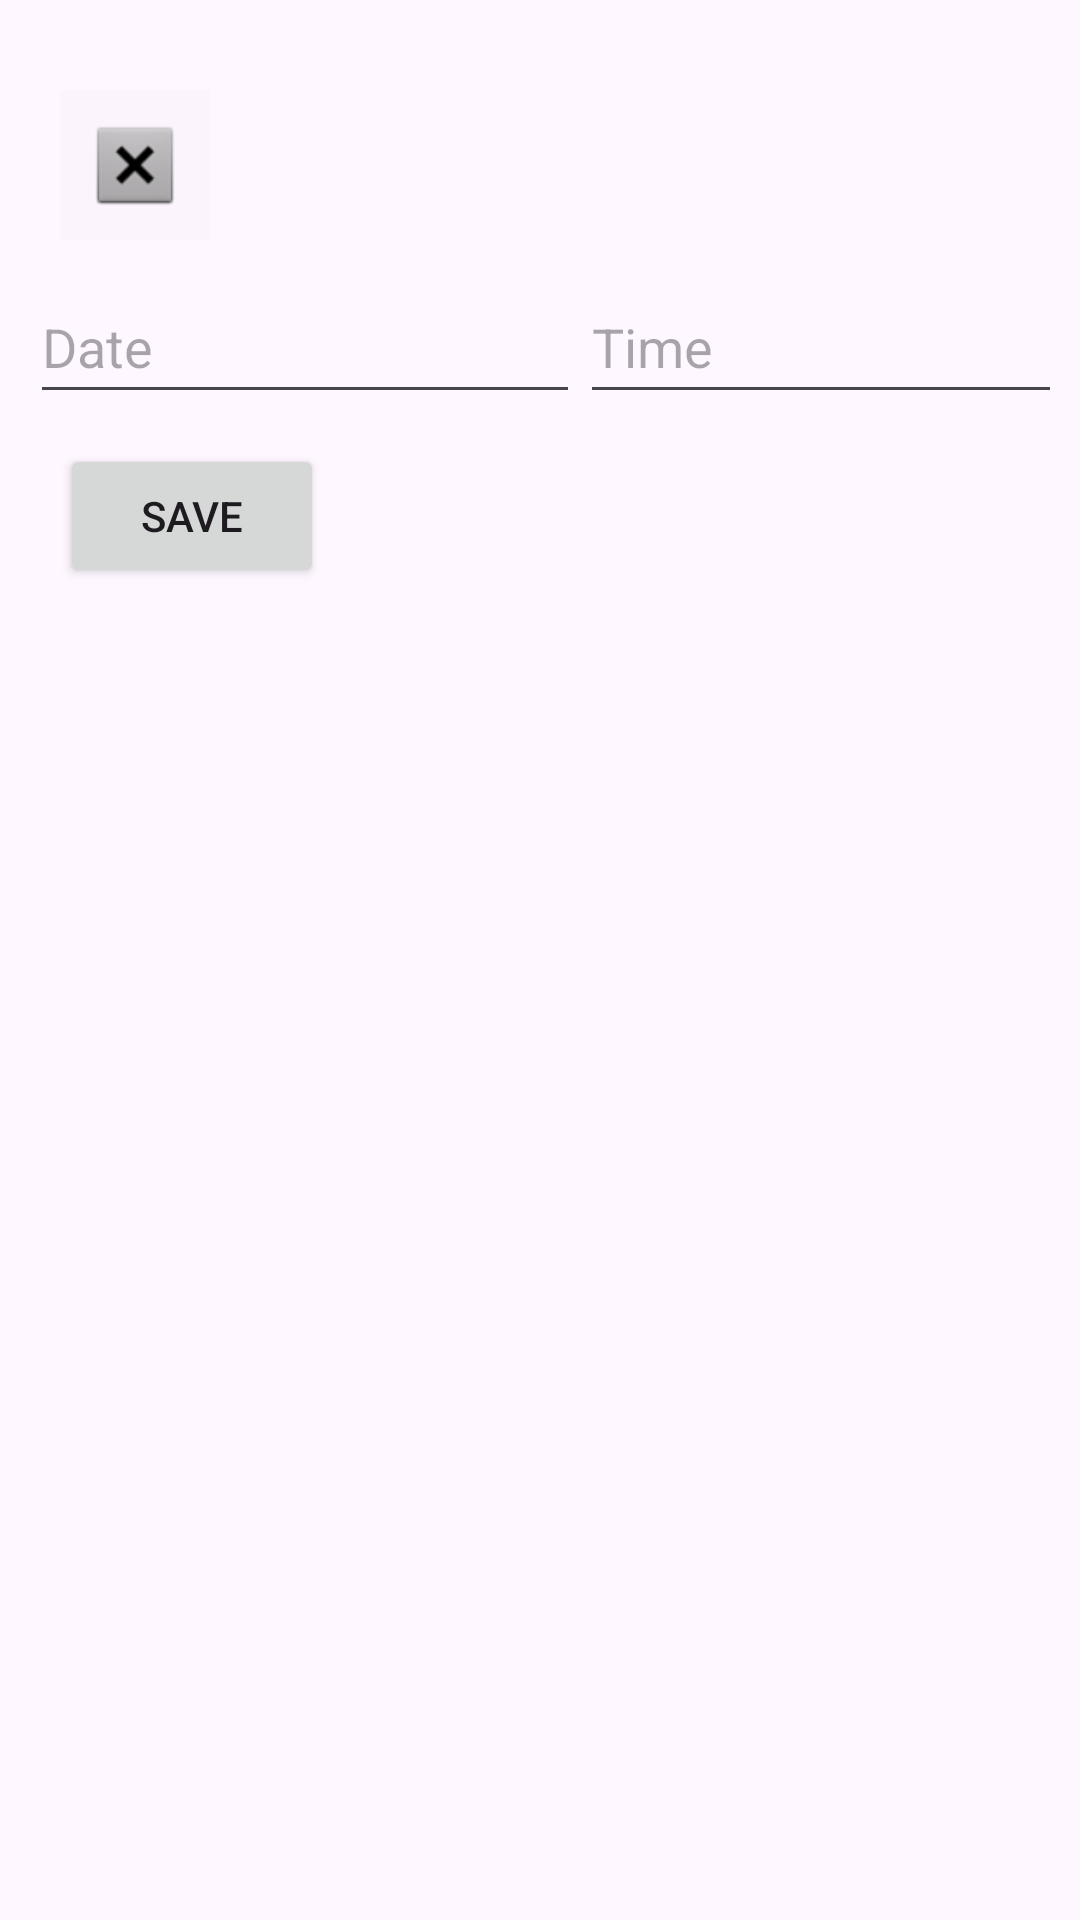

Locate icon controls on the screen. Image size 1080*1920, boxes as detection(x1, y1, x2, y2).
close: detection(96, 127, 174, 204)
